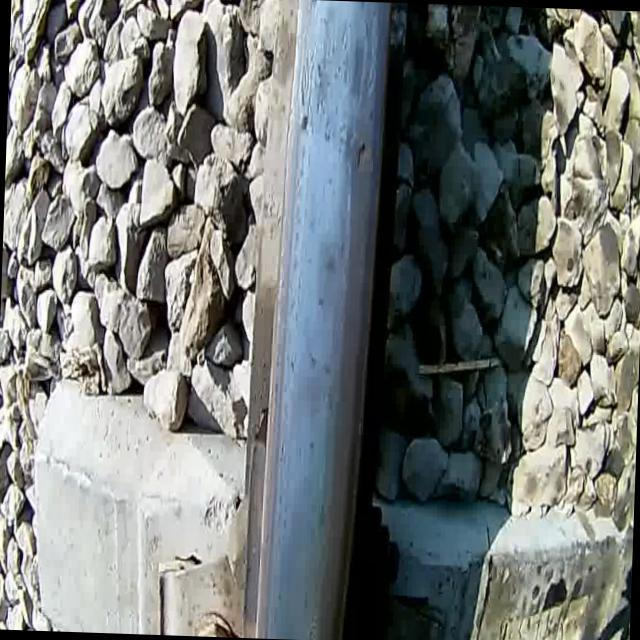Squats: (293, 0, 382, 182)
